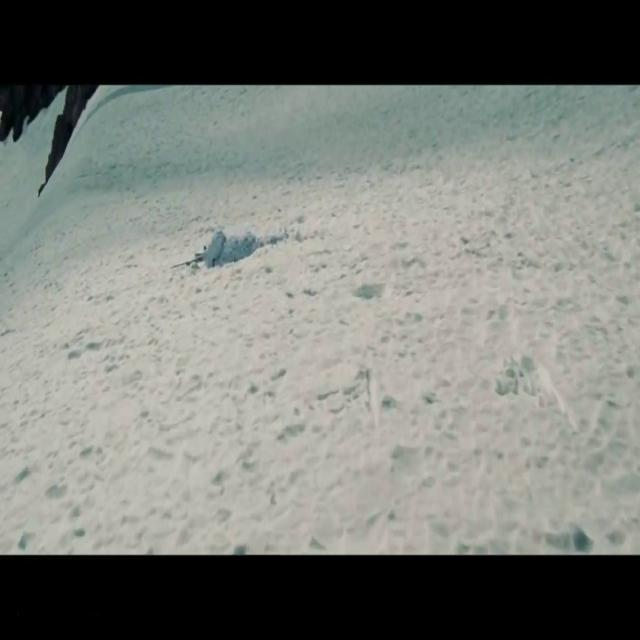Camouflage: (169, 230, 284, 264)
